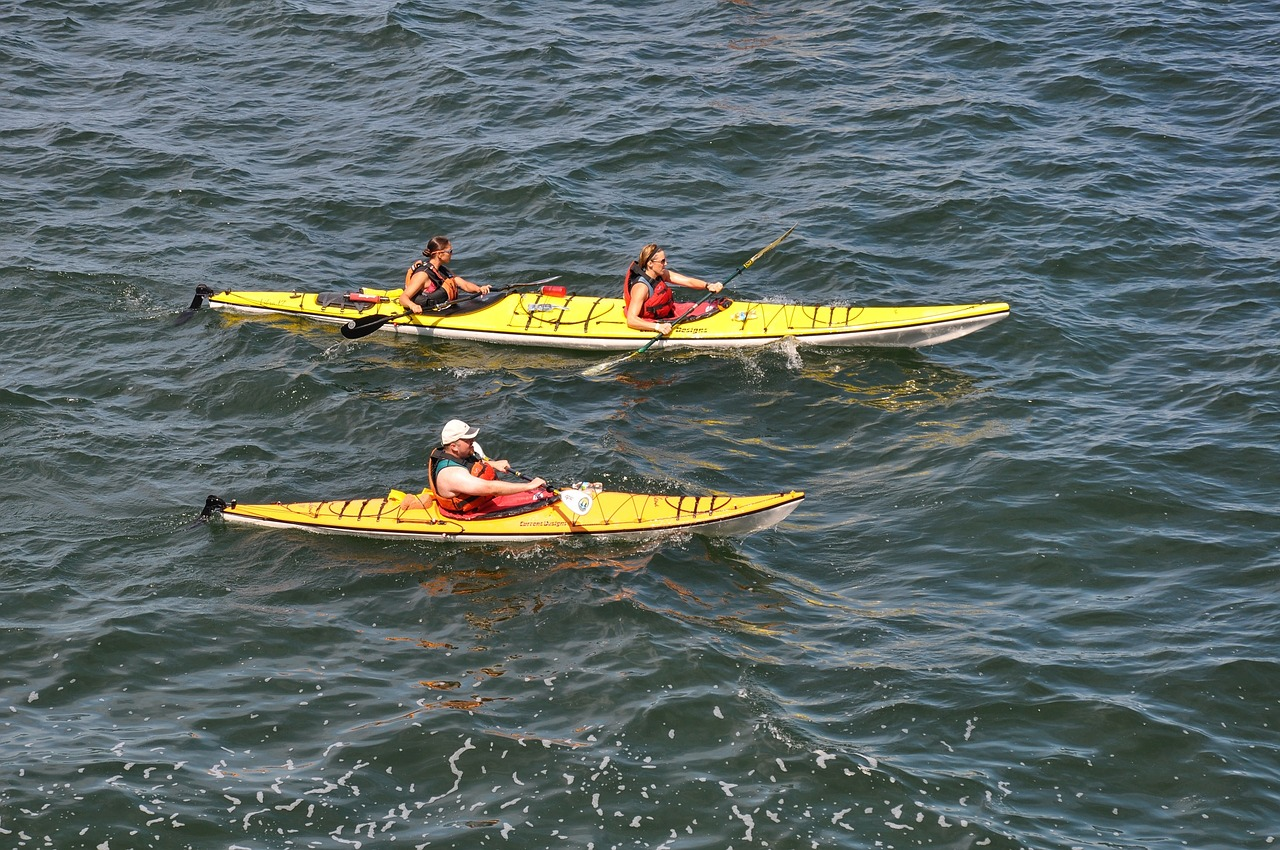kayak: (203, 287, 1013, 353), (198, 488, 807, 542)
